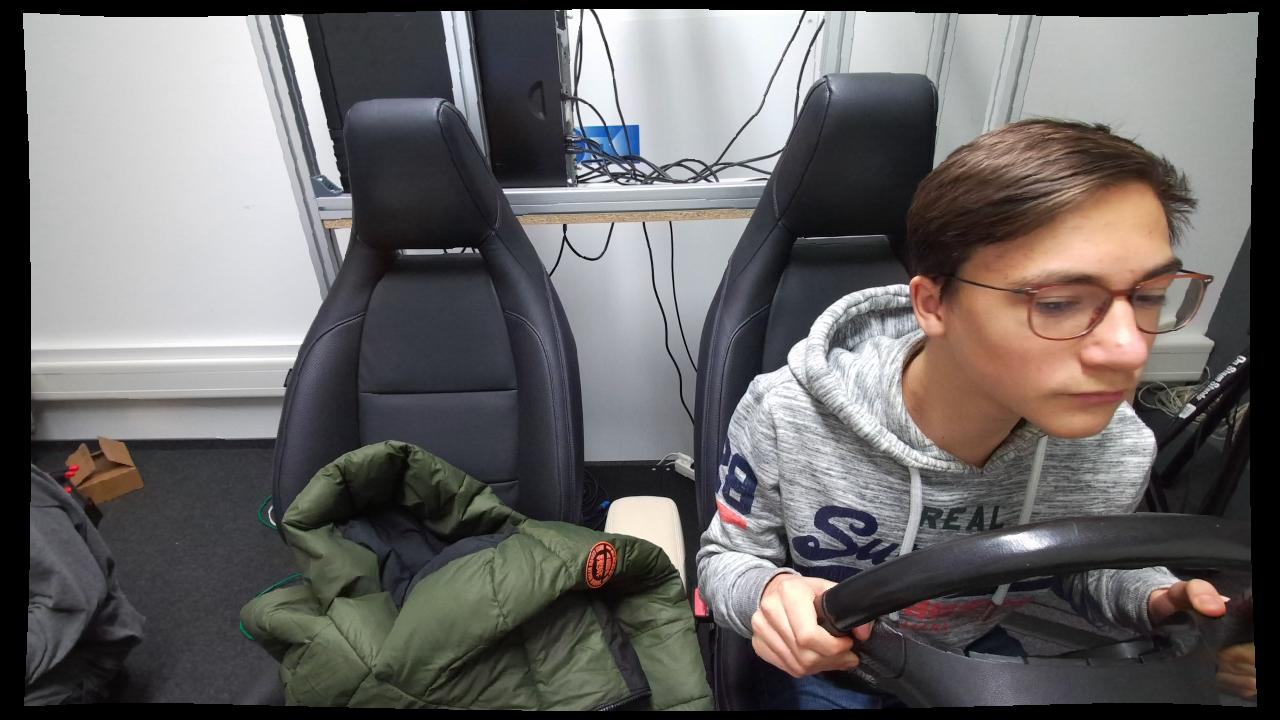Distracted: (697, 120, 1214, 714)
